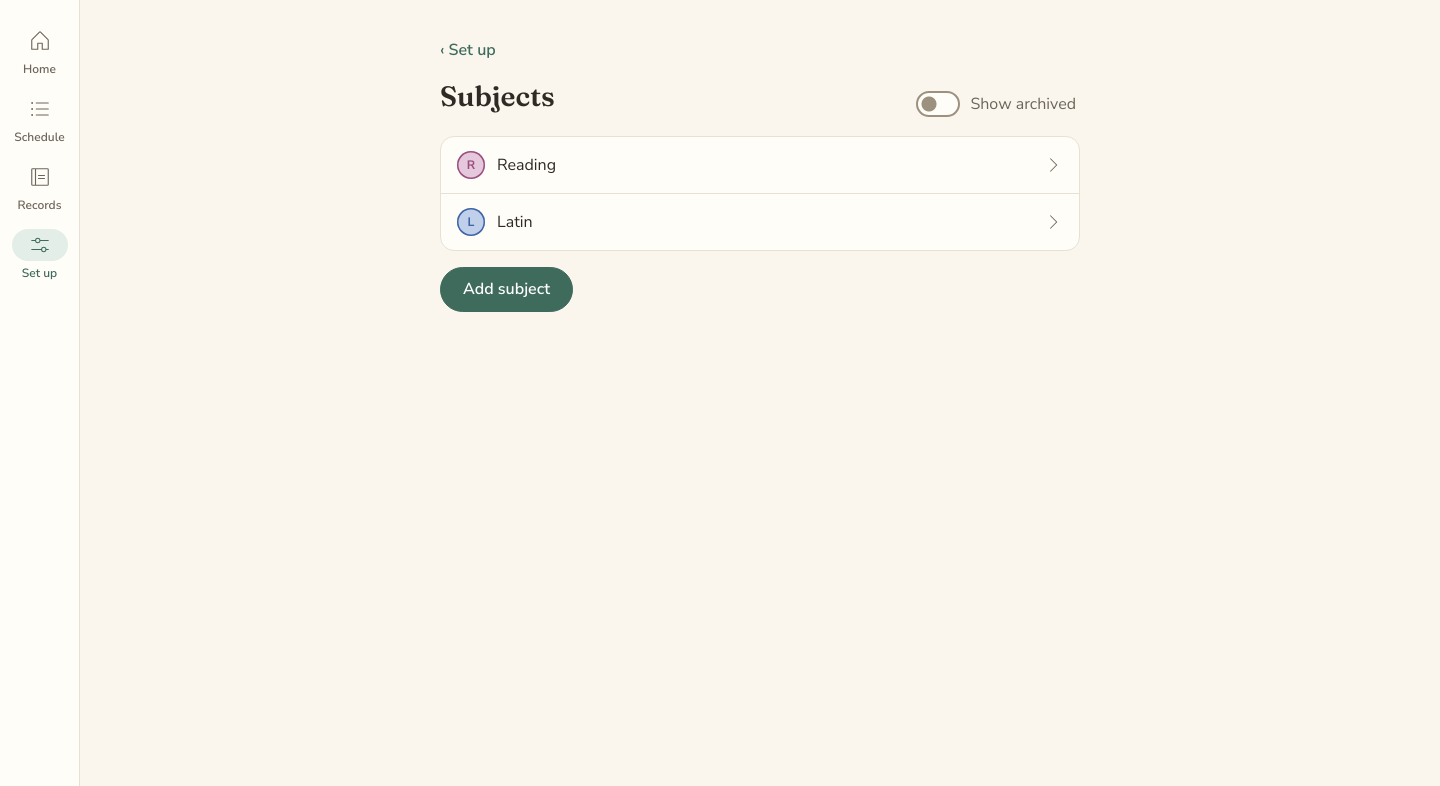
3. Rose and Lilac, and the used-by cue (L5) › says in words which subject uses the swatch you are on
What coordinates should you click on to do the following:
click the button "Add subject"
I would click on:
 (506, 290)
Its box is [440,267,573,312].
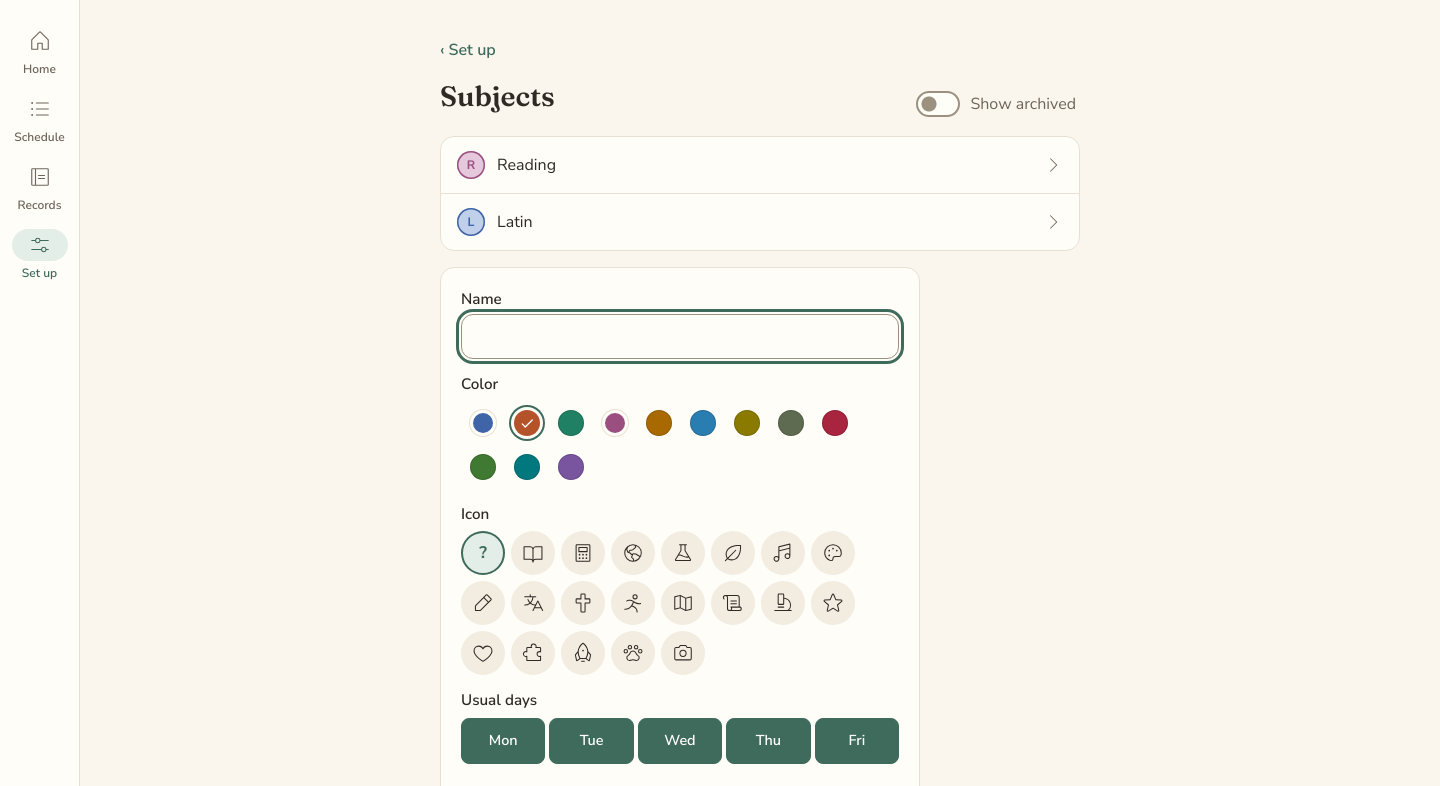
What coordinates should you click on to do the following:
click the radio button named "Lilac, used by Reading"
I would click on:
 (615, 423)
Its box is [605,413,625,433].
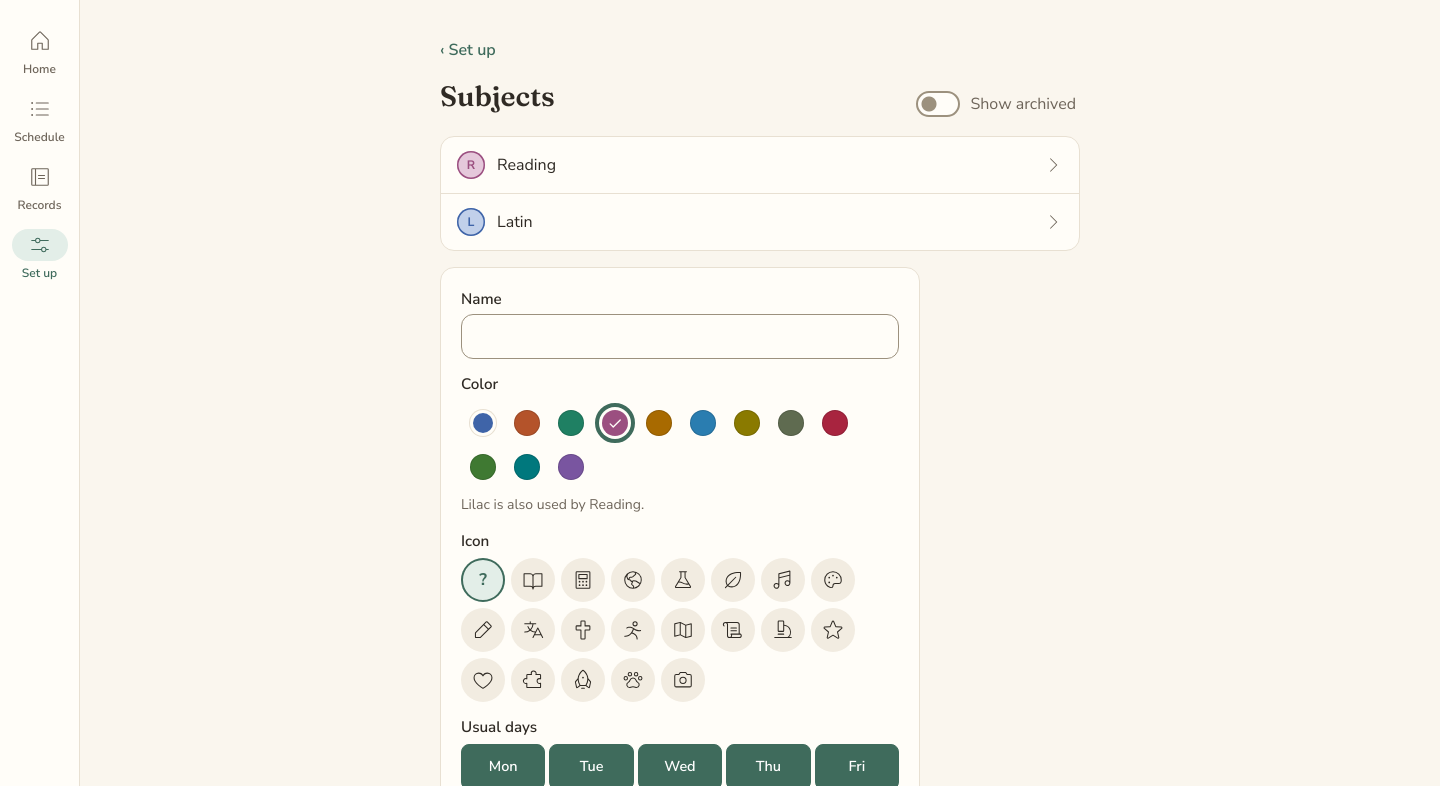
Expected: the text "Lilac is also used by Reading." is shown, [461,495,644,514]
What coordinates should you click on to do the following:
click the radio button named "Honey"
I would click on:
 (659, 423)
Its box is [646,410,672,436].
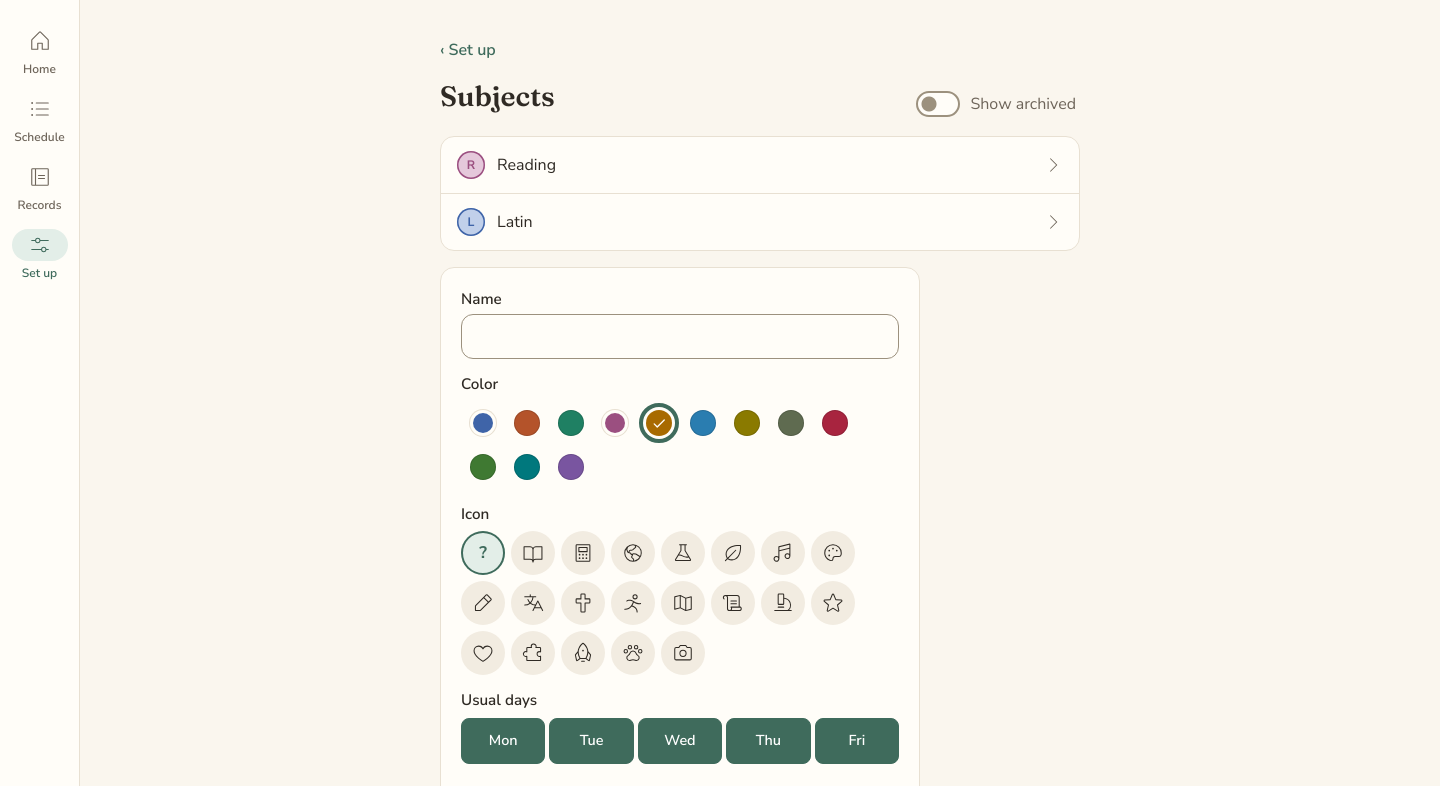
Expected: the text "is also used by" is gone
